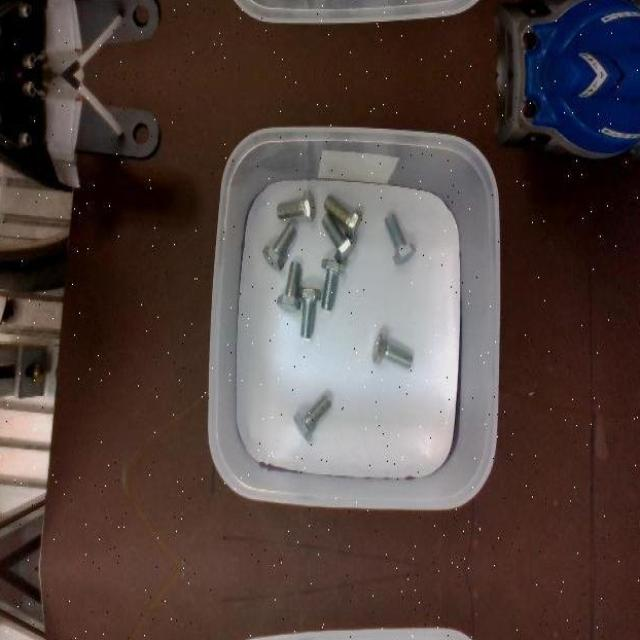screw: (292, 395, 332, 442), (321, 212, 355, 263), (262, 222, 296, 272), (384, 212, 416, 264), (324, 194, 362, 236), (372, 330, 412, 369), (296, 286, 321, 337), (276, 260, 300, 312), (276, 190, 315, 222), (321, 259, 345, 309)
